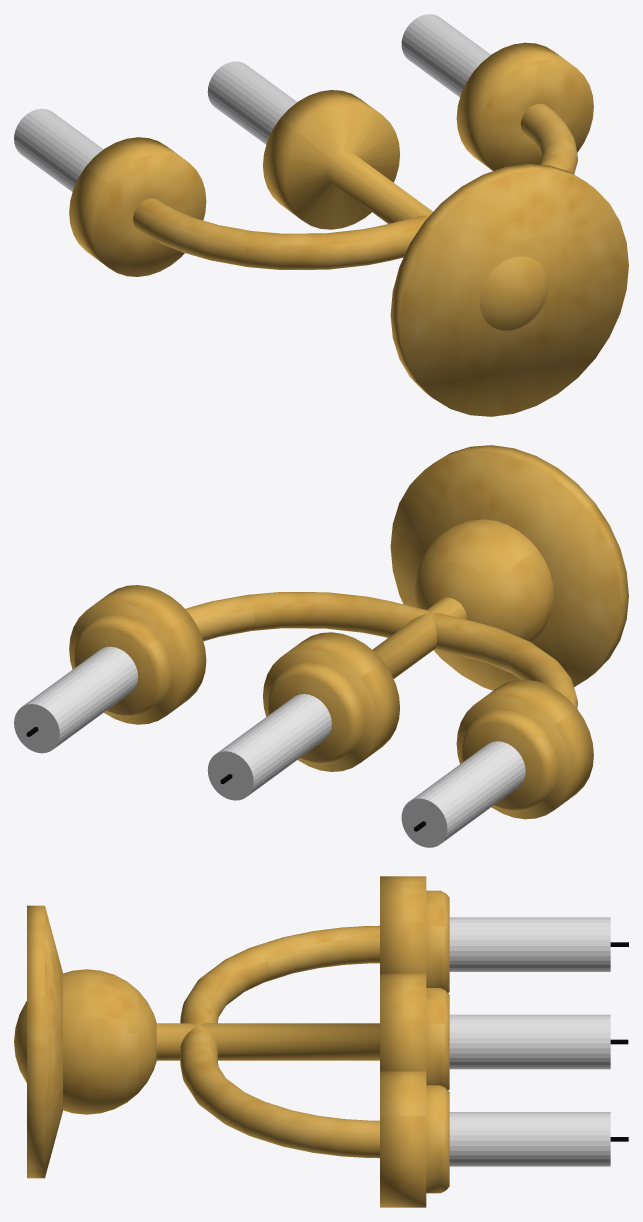
The model's file is candleStick.fbx.
The picture shows the model from 3 angles, top to bottom: view 1: azimuth 30°, elevation 25°; view 2: azimuth 150°, elevation 25°; view 3: azimuth 270°, elevation 25°; orthographic projection. The views are drawn at different scales.
Visible parts, largest first — view 1: Circle; view 2: Circle; view 3: Circle.
Boxes of the visible parts, x1,y1,x2,y2 form: Circle: (14, 14, 628, 416); Circle: (14, 445, 628, 847); Circle: (14, 876, 628, 1207).
Size of the model in its own units: 0.3282 by 0.15 by 0.338.
